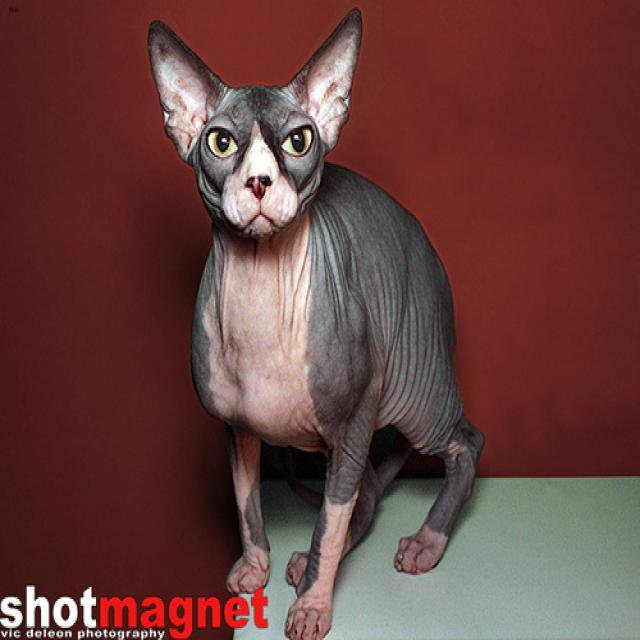Sphynx: (146, 7, 368, 267)
